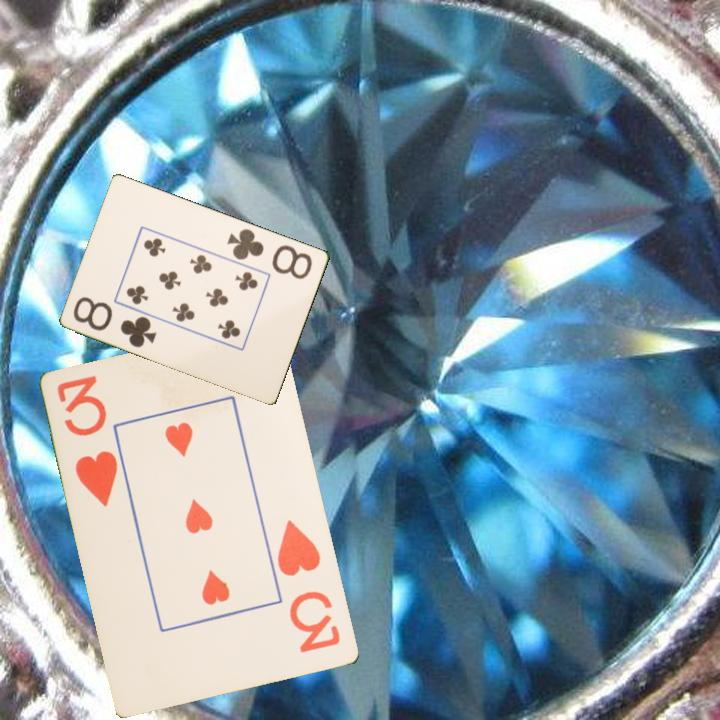3h: (274, 516, 344, 656), (54, 372, 122, 510)
8c: (224, 225, 315, 282), (70, 293, 160, 350)
